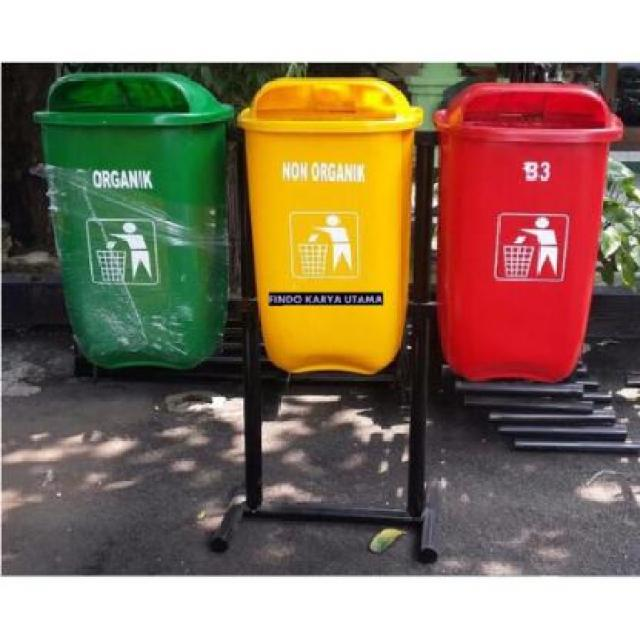garbage container: (28, 60, 241, 391), (232, 71, 428, 397), (428, 78, 627, 393)
